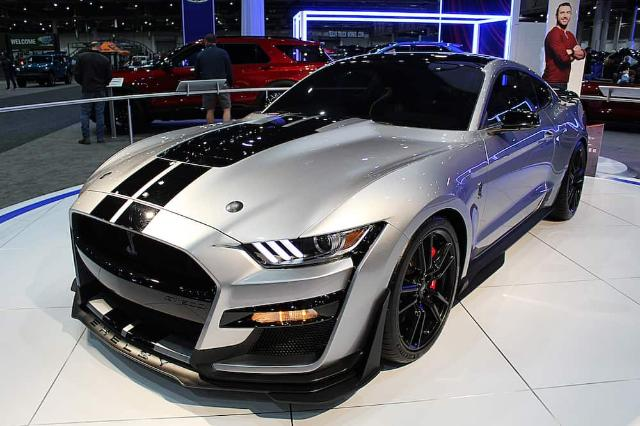ford: (68, 52, 590, 406)
